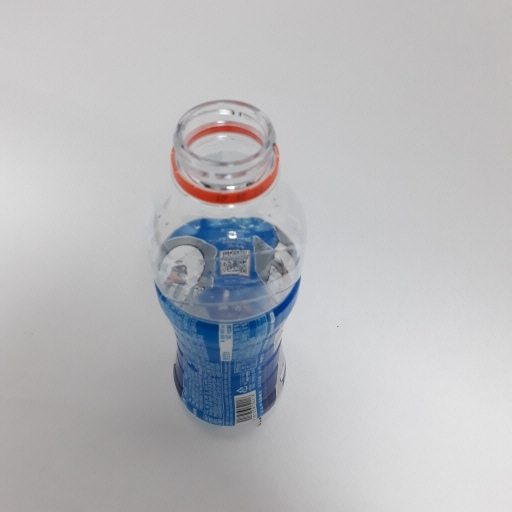Plastic_0: (150, 99, 305, 435)
